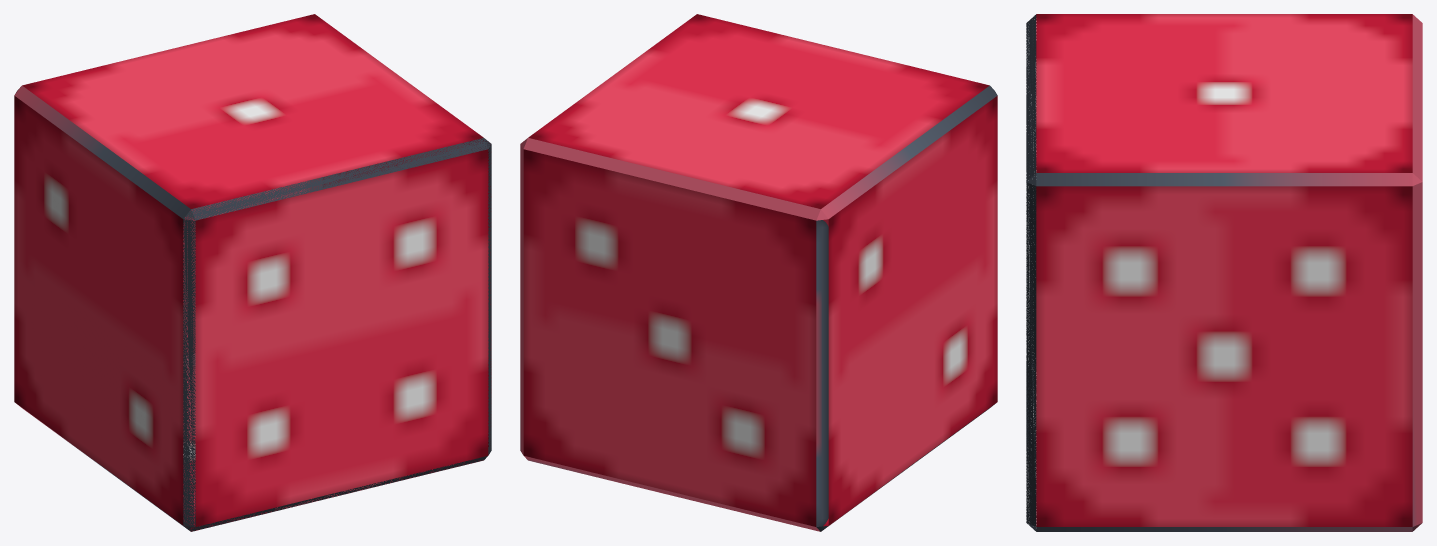
File: dice.obj
The picture shows the model from 3 angles, left to right: view 1: azimuth 30°, elevation 25°; view 2: azimuth 150°, elevation 25°; view 3: azimuth 270°, elevation 25°; orthographic projection. The views are drawn at different scales.
Visible parts, largest first — view 1: Cube; view 2: Cube; view 3: Cube.
Boxes of the visible parts, box(x1,y1,x2,y2) form: Cube: box(14, 14, 491, 531); Cube: box(520, 14, 997, 531); Cube: box(1026, 14, 1422, 531).
Bounding box in the file's own units: 0.576 × 0.576 × 0.576.
